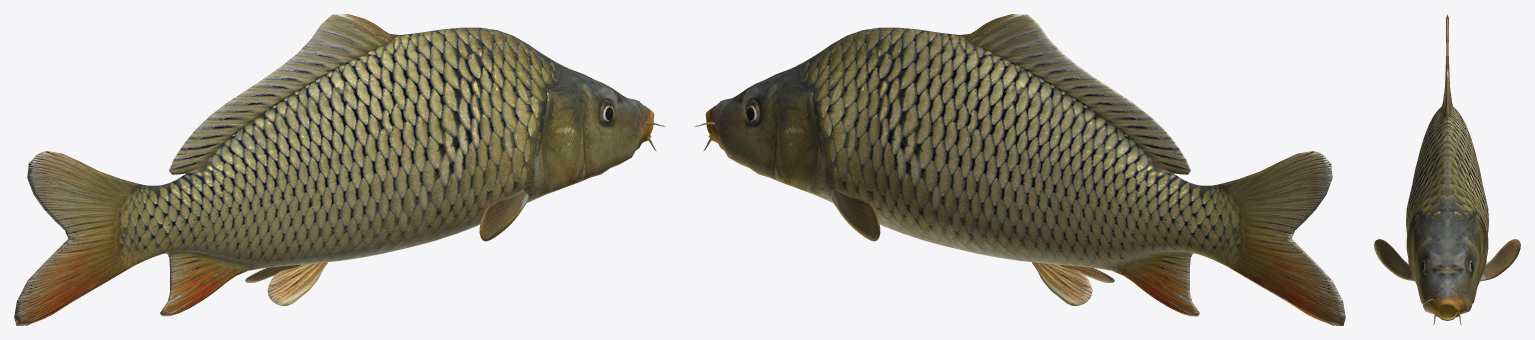
Rendered from carp_fish_free_3d_model.glb.
3 views of the same model, side by side, from view 1: azimuth 30°, elevation 25°; view 2: azimuth 150°, elevation 25°; view 3: azimuth 270°, elevation 25° (orthographic). The views are drawn at different scales.
Visible parts, largest first — view 1: body_3; view 2: body_3; view 3: body_3.
Boxes of the visible parts, x1=… form: body_3: x1=14, y1=14, x2=665, y2=325; body_3: x1=694, y1=14, x2=1345, y2=325; body_3: x1=1374, y1=14, x2=1520, y2=325.
Size of the model in its own units: 0.3496 by 0.1387 by 0.0976.
Materials: 1 (1 with a texture image).
